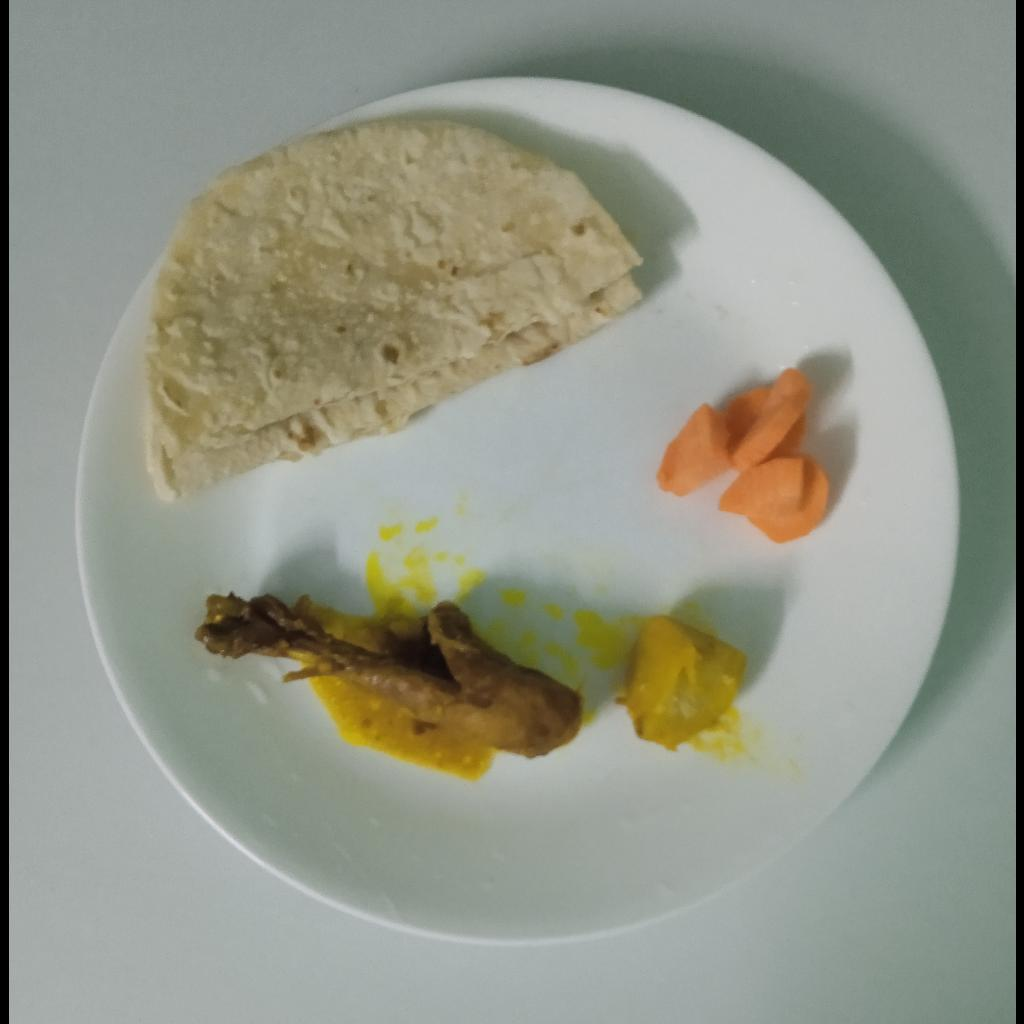carrot: (655, 367, 829, 542)
chicken: (195, 595, 586, 764)
potato: (620, 616, 749, 750)
ruti: (144, 114, 649, 501)
